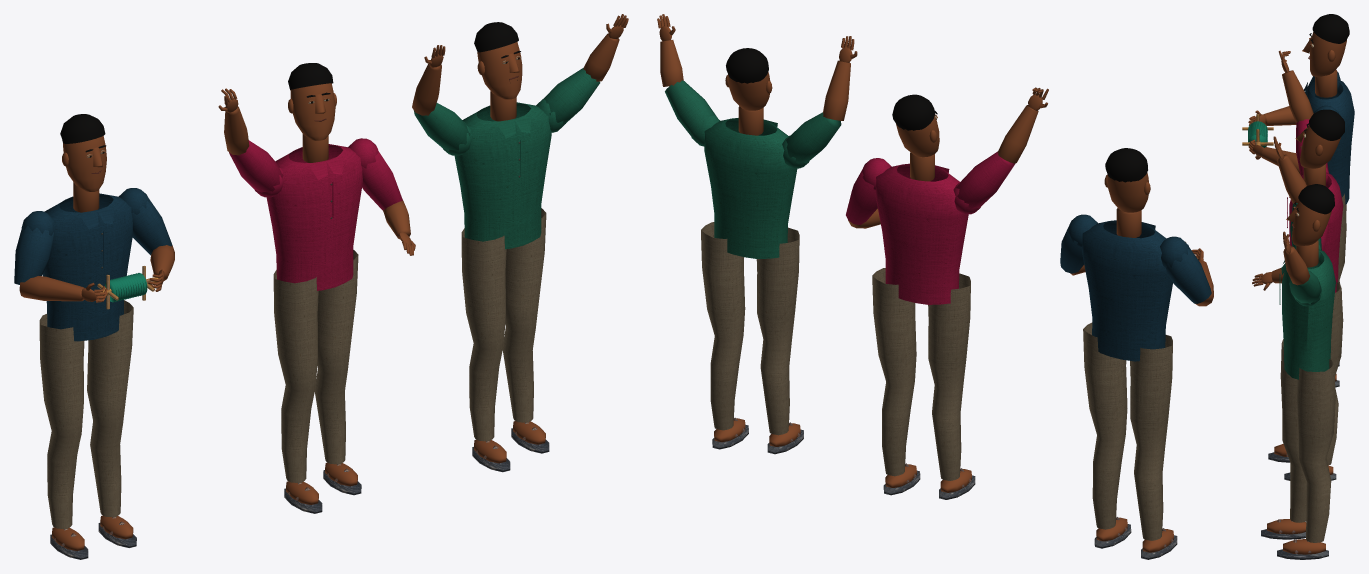
File: char_kite_flyers.glb
The picture shows the model from 3 angles, left to right: view 1: azimuth 30°, elevation 25°; view 2: azimuth 150°, elevation 25°; view 3: azimuth 270°, elevation 25°; orthographic projection. The views are drawn at different scales.
Parts seen in each view (by area): view 1: flyer_cheering, flyer_natai, flyer_pointing; view 2: flyer_cheering, flyer_pointing, flyer_natai; view 3: flyer_cheering, flyer_pointing, flyer_natai.
Part boxes in pixels (left/top/right/bottom): flyer_cheering: left=412, top=14, right=628, bottom=472; flyer_natai: left=14, top=114, right=174, bottom=559; flyer_pointing: left=218, top=63, right=415, bottom=513; flyer_cheering: left=657, top=14, right=857, bottom=454; flyer_pointing: left=846, top=87, right=1048, bottom=499; flyer_natai: left=1060, top=148, right=1213, bottom=559; flyer_cheering: left=1261, top=136, right=1335, bottom=559; flyer_pointing: left=1252, top=50, right=1344, bottom=480; flyer_natai: left=1242, top=14, right=1354, bottom=387.
Size of the model in its own units: 2.59 by 1.82 by 0.4943.
15 materials, 7 textured.
